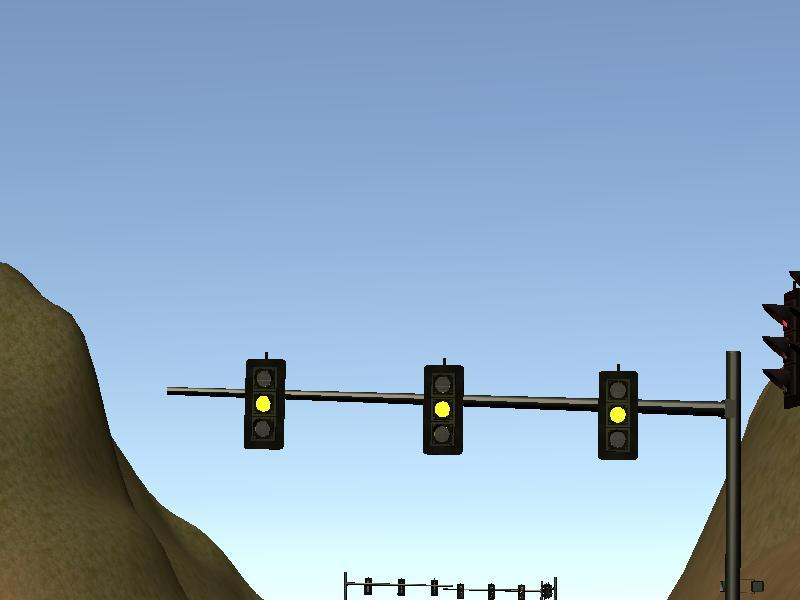Yellow: (425, 366, 463, 455), (247, 360, 284, 450), (601, 372, 638, 460)
